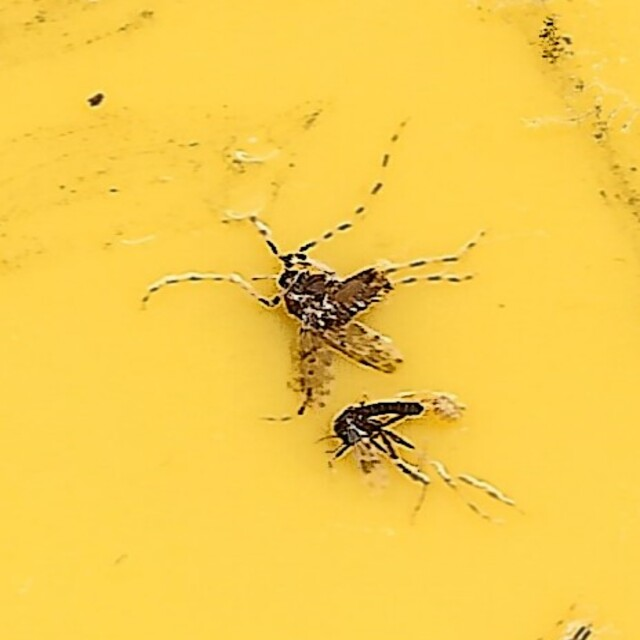Nematocera: (138, 120, 487, 419), (320, 392, 502, 520)
